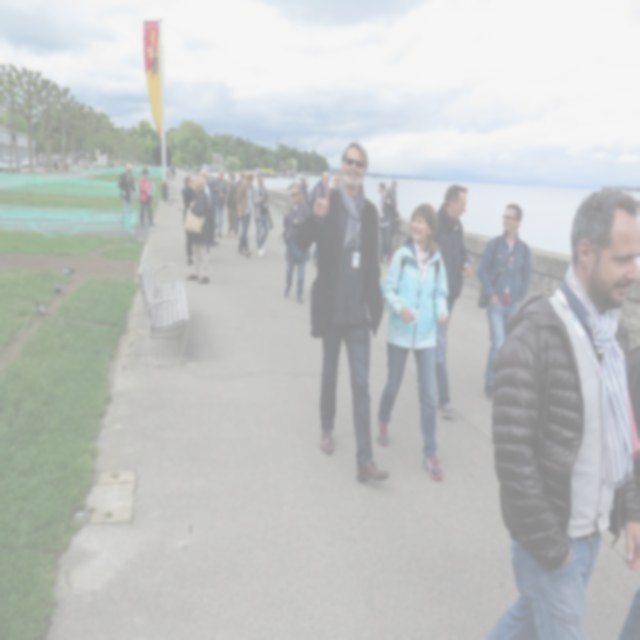pessoa: (474, 188, 640, 639), (304, 136, 392, 484), (374, 201, 452, 482), (412, 182, 473, 420), (474, 200, 532, 404), (615, 339, 639, 640), (282, 185, 312, 306), (184, 174, 212, 285), (251, 170, 274, 258), (236, 170, 257, 258), (377, 180, 397, 268), (198, 168, 216, 264), (179, 172, 197, 266), (34, 148, 98, 173), (116, 162, 138, 227), (210, 170, 228, 240), (385, 178, 401, 256), (137, 168, 156, 228), (224, 172, 240, 238), (308, 170, 331, 210), (262, 166, 296, 182), (327, 170, 343, 194), (298, 177, 310, 200), (236, 170, 246, 188), (168, 163, 178, 179), (303, 178, 311, 198), (184, 164, 191, 173), (208, 165, 214, 175)
